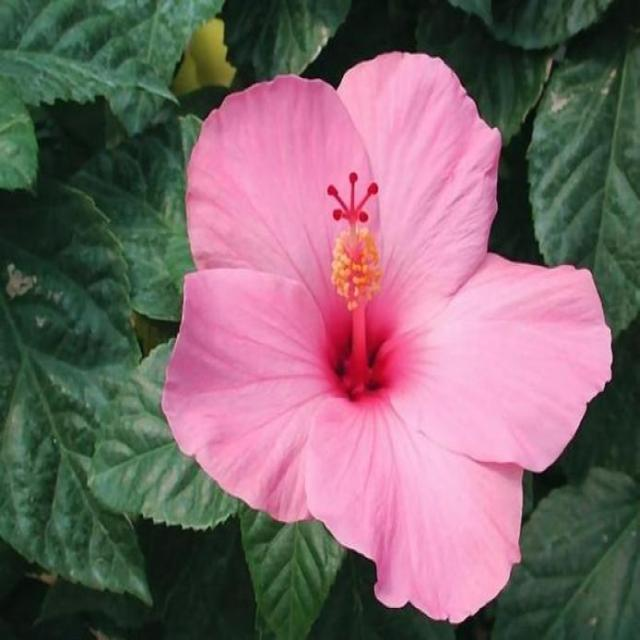hibiscus: (105, 39, 639, 640)
